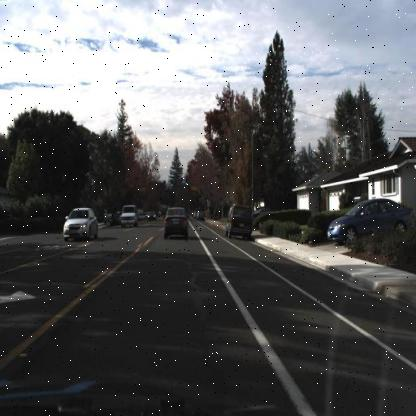car: (326, 197, 414, 247), (61, 206, 100, 244), (161, 203, 192, 244), (223, 202, 255, 239), (250, 204, 274, 227), (119, 204, 139, 228), (145, 208, 158, 223)
trafficLight-Green: (170, 176, 174, 188), (184, 175, 188, 187)
